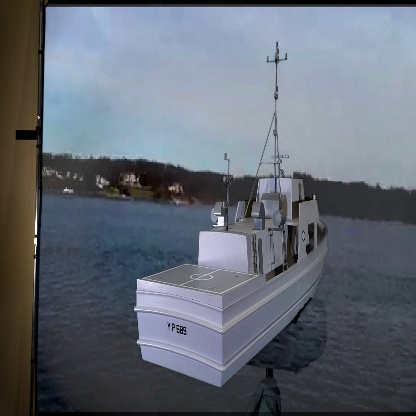YP689: (134, 42, 329, 389)
